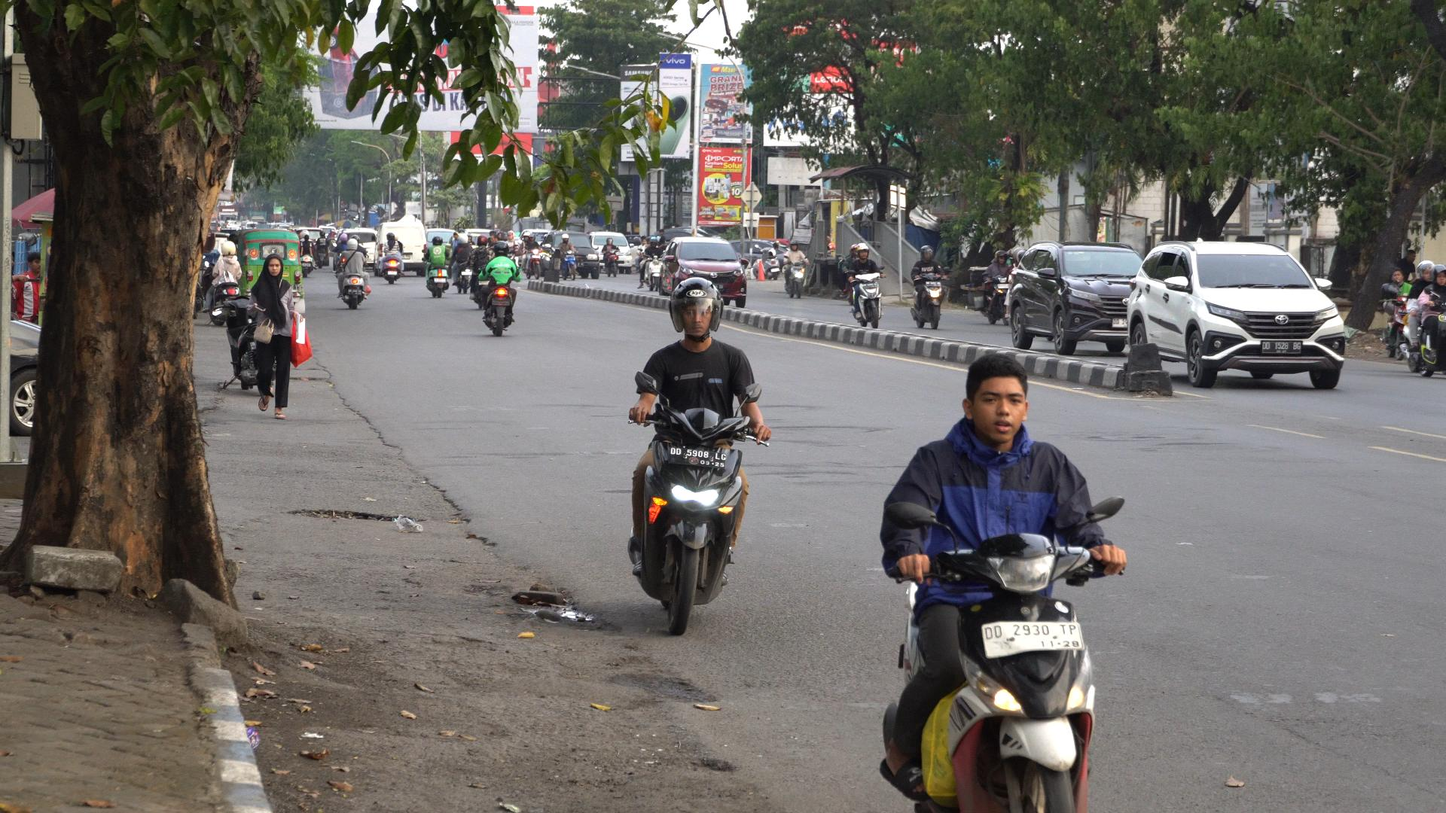number-plate: (987, 620, 1087, 654), (664, 443, 728, 470)
